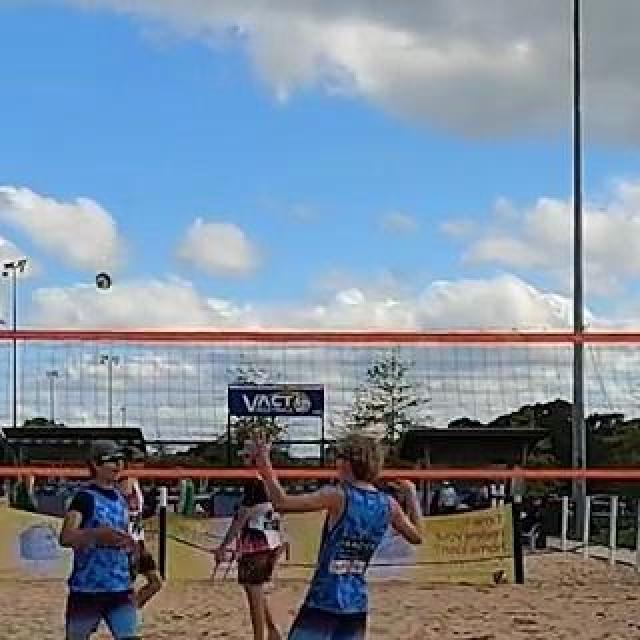volleyball: (97, 272, 113, 290), (492, 569, 508, 585)
